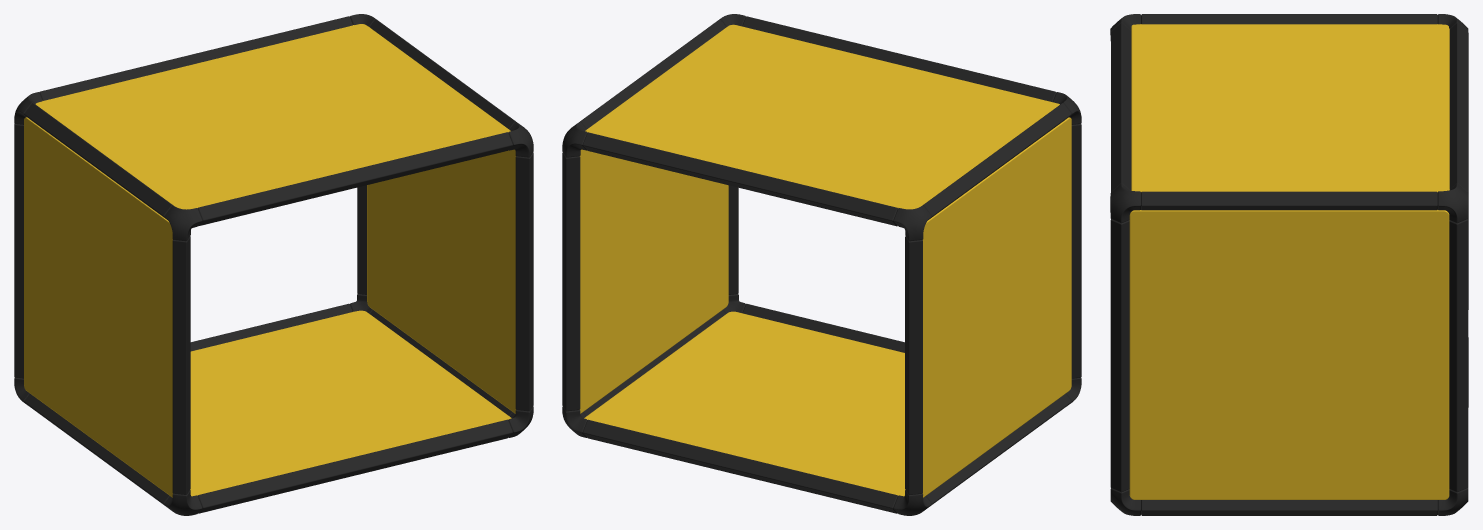
3 views of the same model, side by side, from view 1: azimuth 30°, elevation 25°; view 2: azimuth 150°, elevation 25°; view 3: azimuth 270°, elevation 25° (orthographic). The views are drawn at different scales.
Visible parts, largest first — view 1: 479x374x374; view 2: 479x374x374; view 3: 479x374x374.
Part boxes in pixels (x1,y1,x2,y2): 479x374x374: [14, 14, 533, 515]; 479x374x374: [562, 14, 1081, 515]; 479x374x374: [1110, 14, 1468, 515].
Size of the model in its own units: 0.5567 by 0.4516 by 0.4513.
